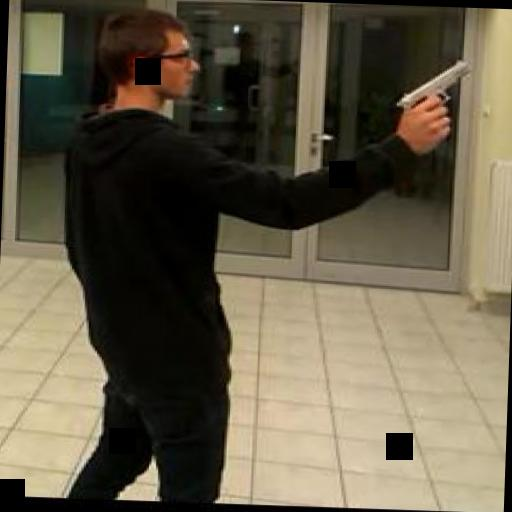Handgun: (390, 54, 470, 130)
